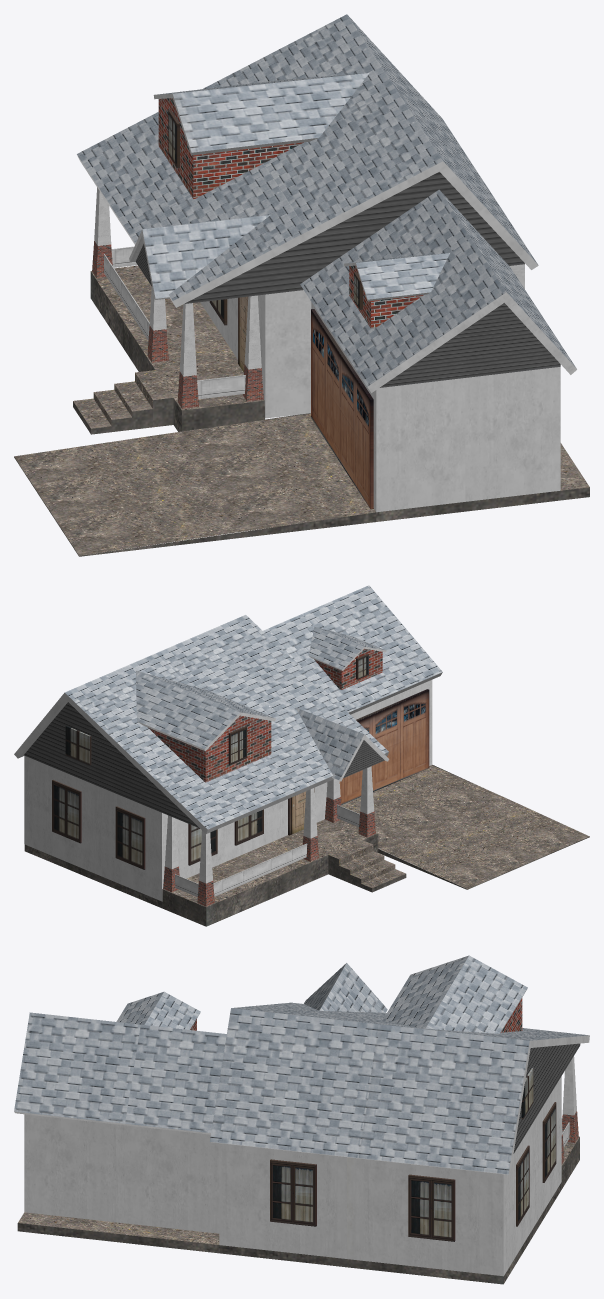
The model's file is house_03__10_.FBX.
3 renders of one model, top to bottom at view 1: azimuth 30°, elevation 25°; view 2: azimuth 150°, elevation 25°; view 3: azimuth 270°, elevation 25°, orthographic. The views are drawn at different scales.
Visible parts, largest first — view 1: house_03__10_; view 2: house_03__10_; view 3: house_03__10_.
Boxes of the visible parts, <box> form: house_03__10_: <box>14,14,589,556</box>; house_03__10_: <box>14,585,589,926</box>; house_03__10_: <box>14,955,589,1284</box>.
Size of the model in its own units: 202 by 82.53 by 201.
